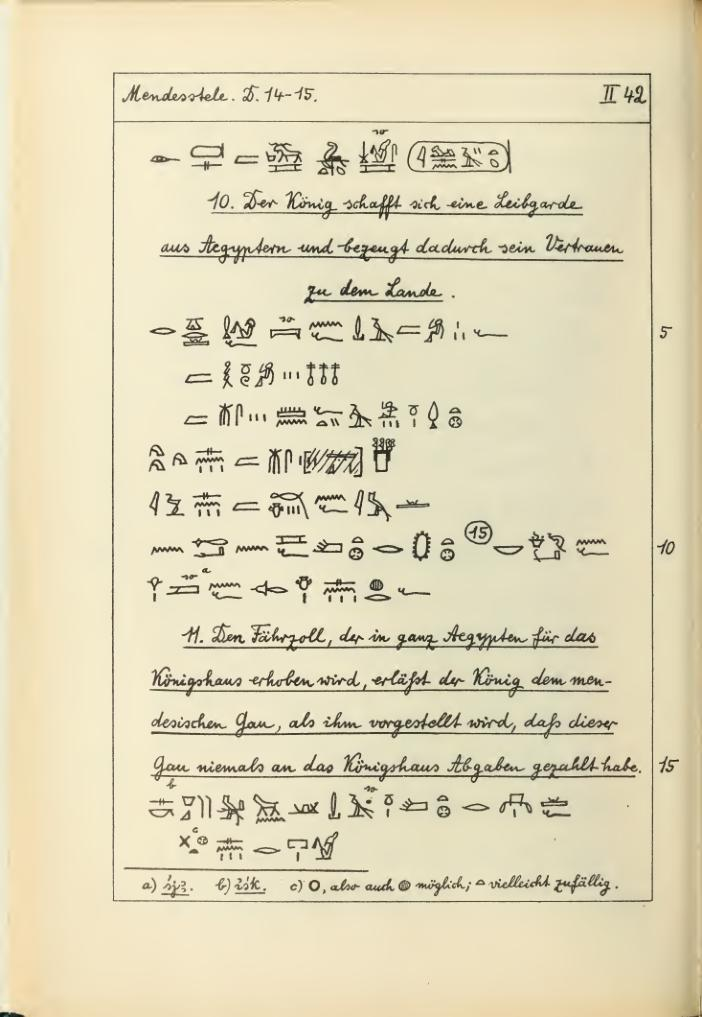circle: (398, 131, 525, 188)
